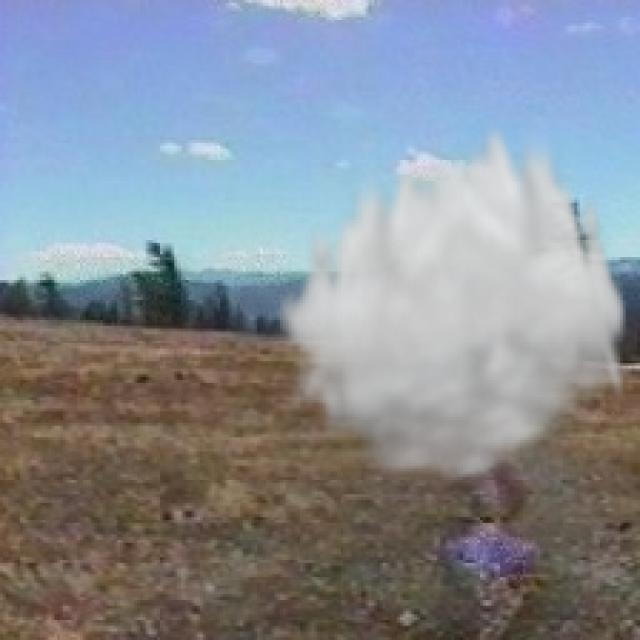Smoke: (272, 111, 632, 488)
